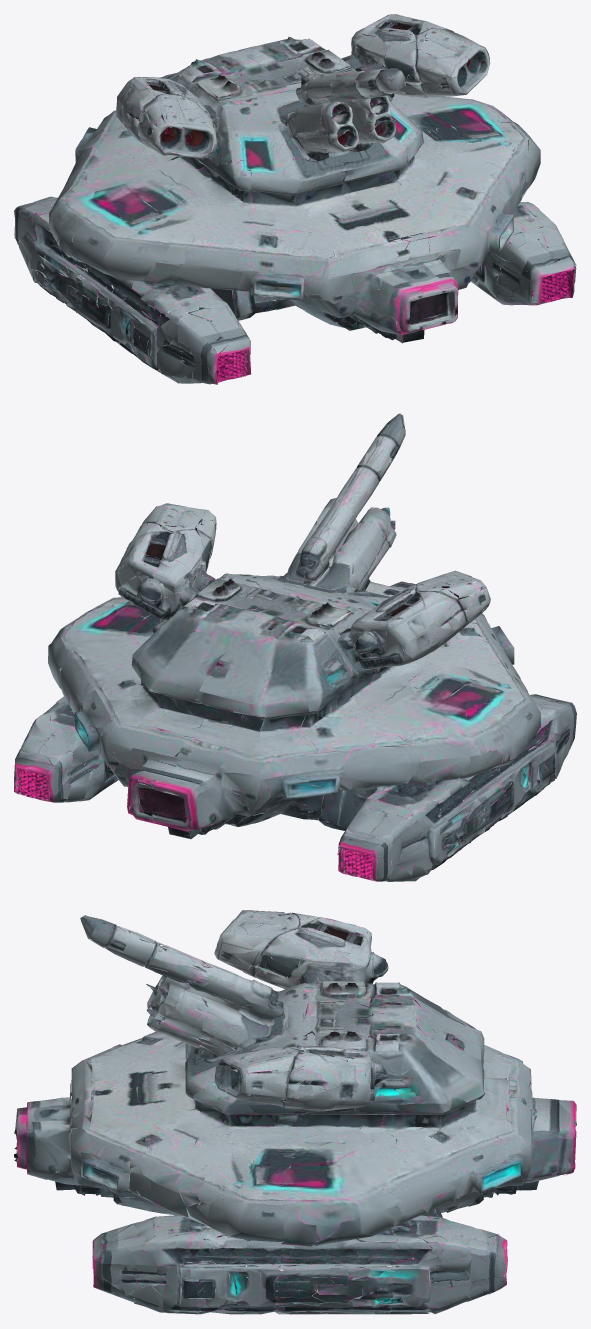
File: firewall.glb
3 renders of one model, top to bottom at view 1: azimuth 30°, elevation 25°; view 2: azimuth 150°, elevation 25°; view 3: azimuth 270°, elevation 25°, orthographic. The views are drawn at different scales.
Visible parts, largest first — view 1: Mesh_0; view 2: Mesh_0; view 3: Mesh_0.
Part boxes in pixels (x1,y1,x2,y2): Mesh_0: (14,14,576,384); Mesh_0: (14,413,576,881); Mesh_0: (14,910,576,1314).
Size of the model in its own units: 1.83 by 1.15 by 1.91.
1 material, 1 textured.
